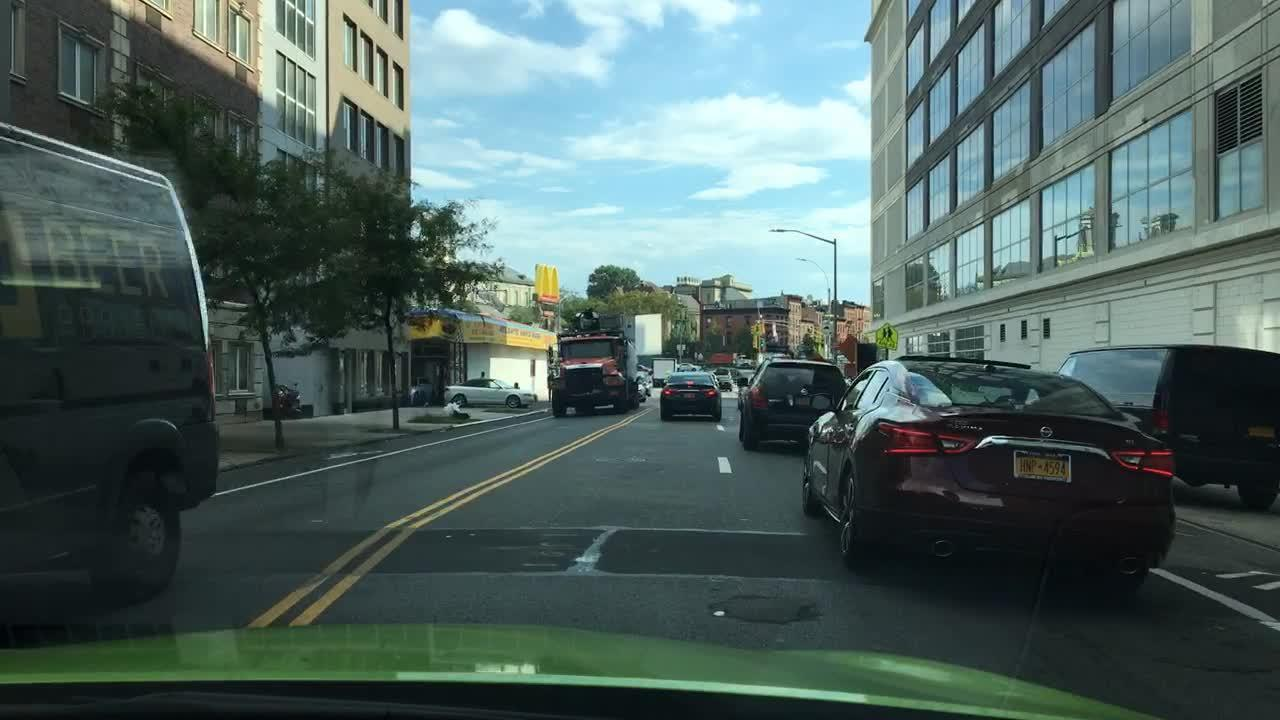Nissan: (1034, 421, 1057, 444)
